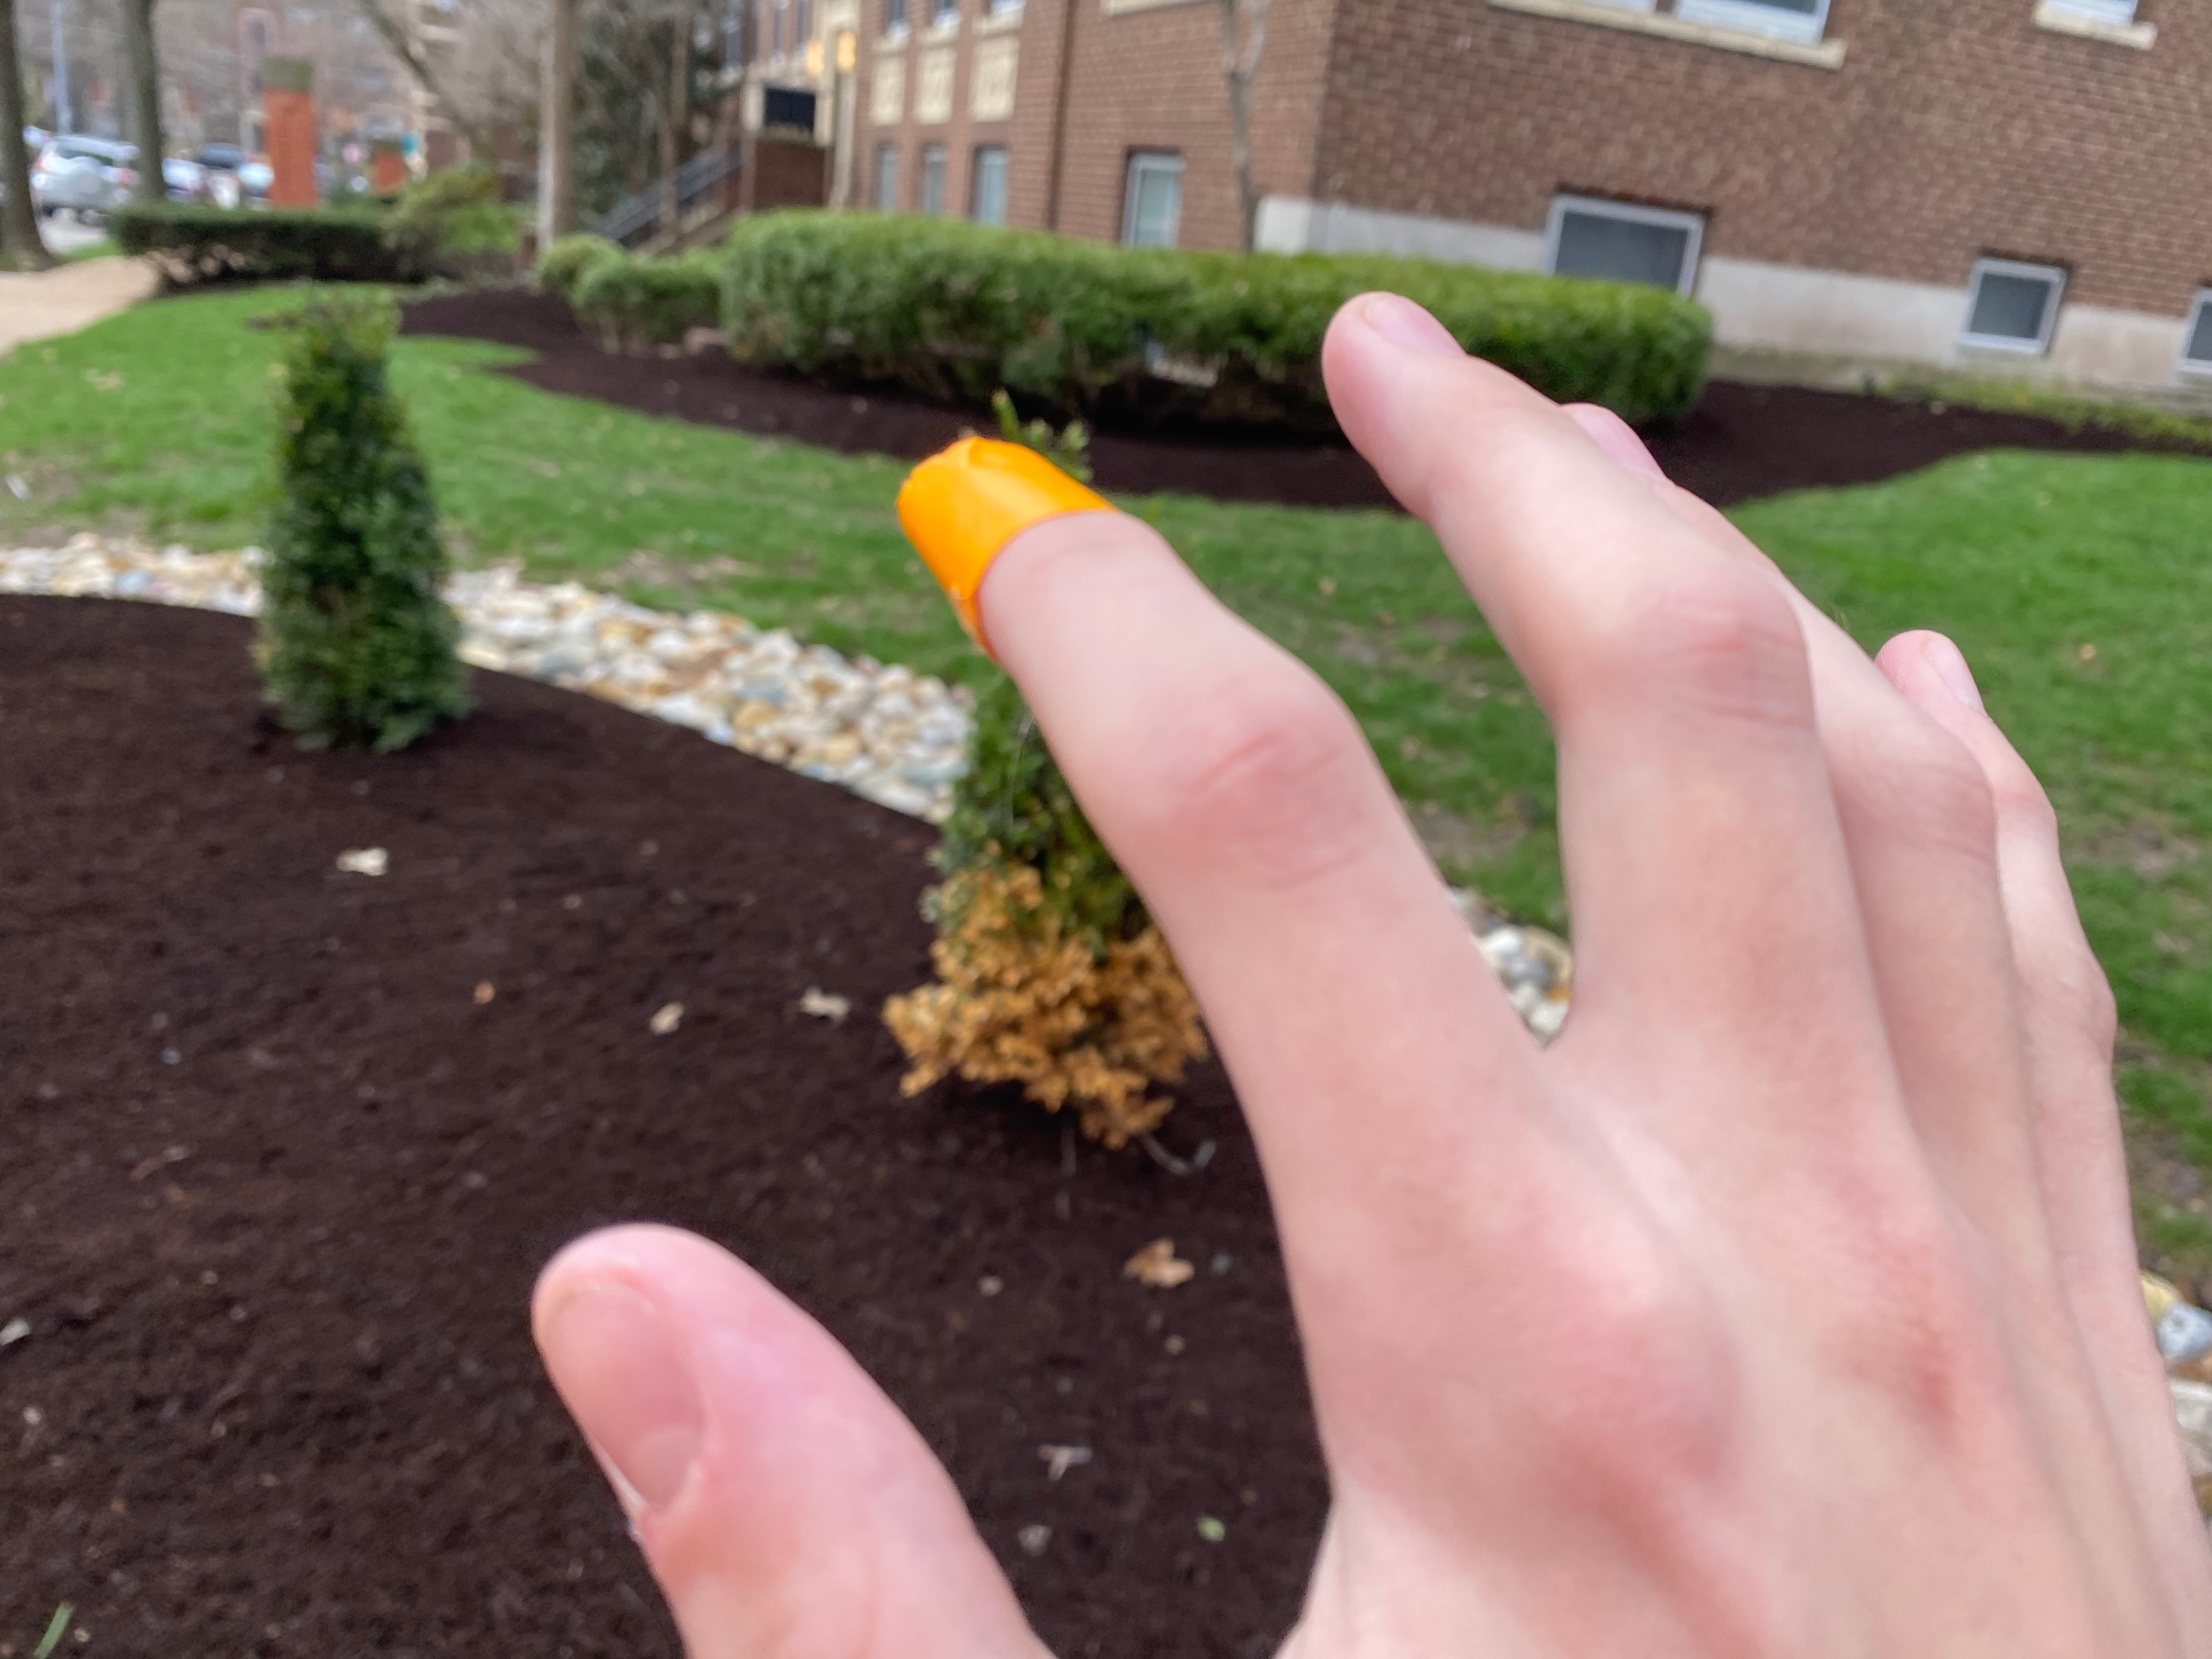fingertip: (881, 423, 1141, 671)
